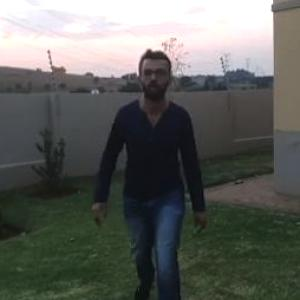follow: (107, 41, 201, 299)
